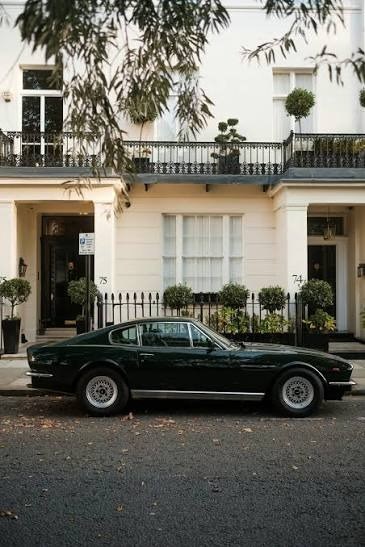car: (47, 318, 357, 423), (16, 316, 249, 416)
